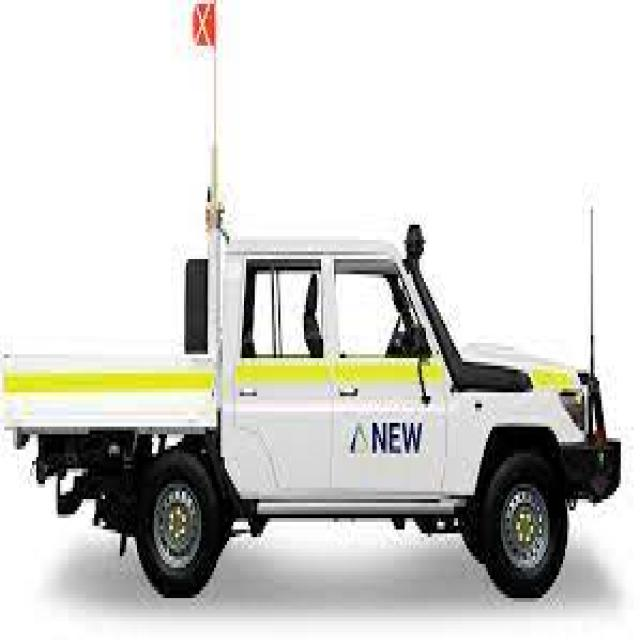light_vehicle: (4, 210, 619, 610)
